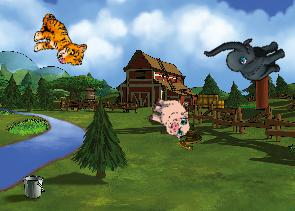elephant: (203, 15, 291, 99)
pig: (144, 92, 196, 141)
tiger: (28, 11, 92, 69)
